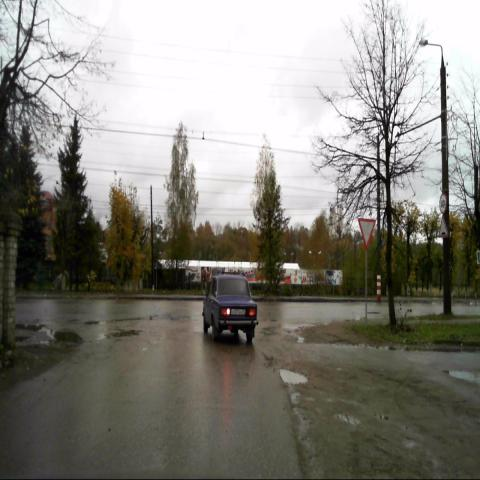2_4: (356, 218, 377, 250)
